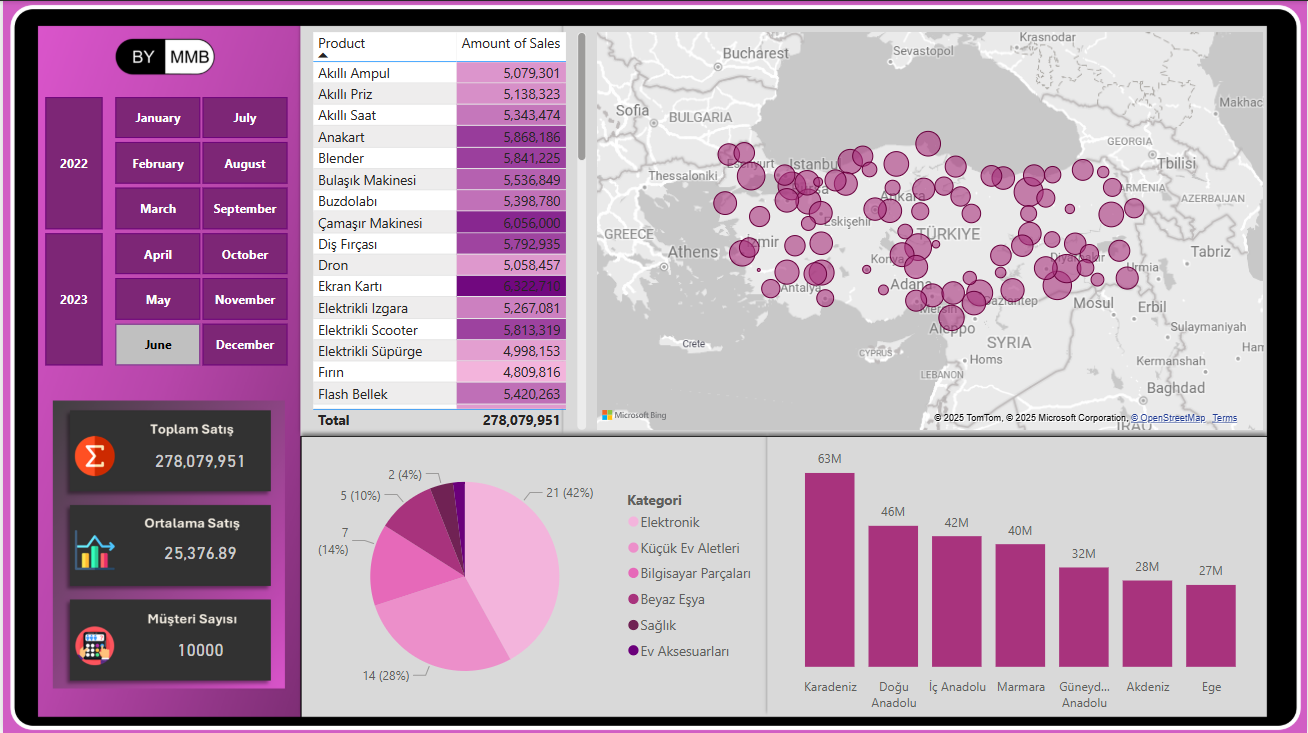

This screenshot's page, from the dashboard's own definition file:
{"tool":"powerbi","page":{"name":"Page 1","canvas":[1280,720],"ordinal":0},"visuals":[{"type":"slicer","fields":{"Values":["sales.Tarih.Variation.Date Hierarchy.Year"]},"box":[20.9,92,95.7,267.5],"z":0},{"type":"slicer","fields":{"Values":["sales.Tarih.Variation.Date Hierarchy.Month"]},"box":[89.6,92,208.6,267.5],"z":1000},{"type":"card","fields":{"Values":["Sum(sales.satis_tutari)"]},"box":[133.7,438,120.2,28.2],"z":2000},{"type":"tableEx","fields":{"Values":["sales.urun","Sum(sales.satis_tutari)"]},"box":[298.2,25.8,279.8,400],"z":3000},{"type":"pieChart","fields":{"Category":["categories.Kategori"],"Y":["CountNonNull(categories.urun)"]},"box":[289.6,425.8,458.9,278.5],"z":4000},{"type":"map","fields":{"Category":["sales.il"],"Size":["Sum(sales.satis_tutari)"]},"box":[577.9,25.8,663.8,400],"z":5000},{"type":"columnChart","fields":{"Category":["regions.bolge"],"Y":["Sum(sales.satis_tutari)"]},"box":[749,426,493,279],"z":6000},{"type":"card","fields":{"Values":["Avg(sales.satis_tutari)"]},"box":[133.7,528.8,120.2,28.2],"z":7000},{"type":"card","fields":{"Values":["CountNonNull(customers.musteri_no)"]},"box":[133.7,623.3,120.2,28.2],"z":8000}]}

Visuals, with their boxes in screenshot pixels (x1, y1, x2, y2), scaled from the page's 1280x720 canvas onto the 1308x733 screenshot:
slicer - sales.Tarih.Variation.Date Hierarchy.Year: box=[21, 94, 119, 366]
slicer - sales.Tarih.Variation.Date Hierarchy.Month: box=[92, 94, 305, 366]
card - Sum(sales.satis_tutari): box=[137, 446, 259, 475]
tableEx - sales.urun x Sum(sales.satis_tutari): box=[305, 26, 591, 433]
pieChart - categories.Kategori x CountNonNull(categories.urun): box=[296, 433, 765, 717]
map - sales.il x Sum(sales.satis_tutari): box=[591, 26, 1269, 433]
columnChart - regions.bolge x Sum(sales.satis_tutari): box=[765, 434, 1269, 718]
card - Avg(sales.satis_tutari): box=[137, 538, 259, 567]
card - CountNonNull(customers.musteri_no): box=[137, 635, 259, 663]
